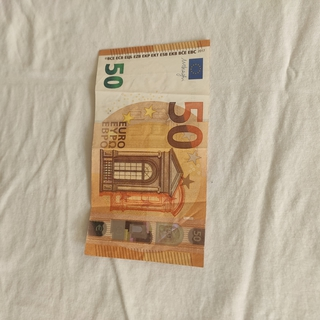50EUROFront: (84, 39, 211, 268)
